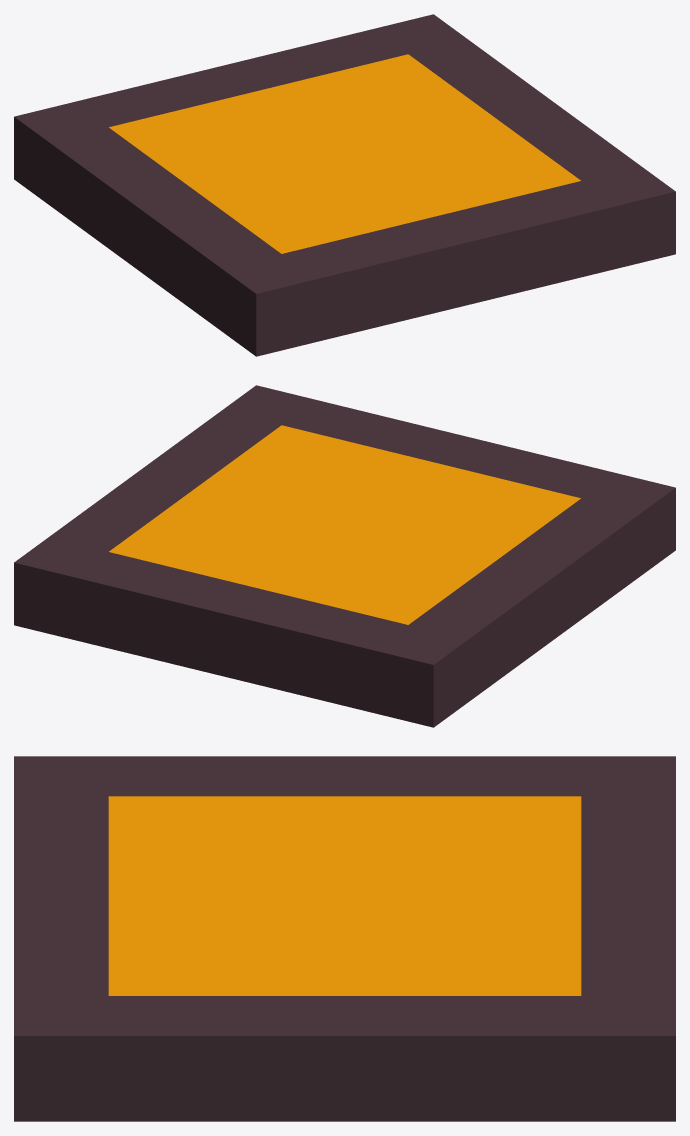
File: button_b_yellow_pressed.obj
3 views of the same model, one above another, from view 1: azimuth 30°, elevation 25°; view 2: azimuth 150°, elevation 25°; view 3: azimuth 270°, elevation 25° (orthographic). The views are drawn at different scales.
Bounding box in the file's own units: 0.7 × 0.1 × 0.7.
1 material, 1 textured.
